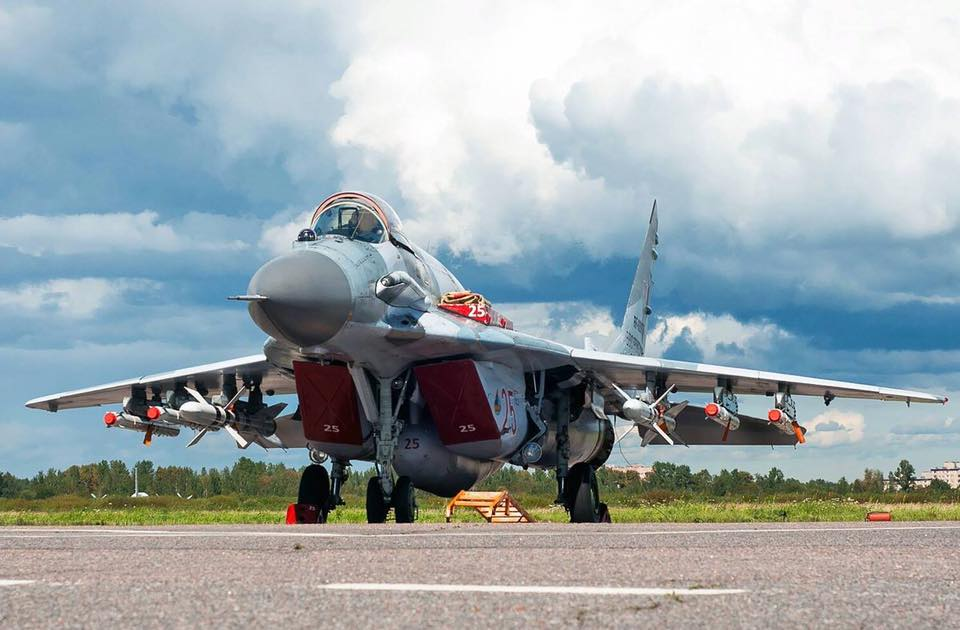Mig-29: (66, 138, 824, 542)
